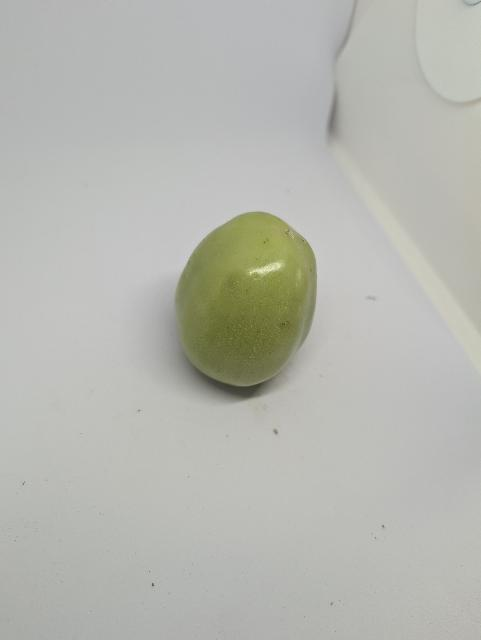green: (163, 200, 318, 403)
